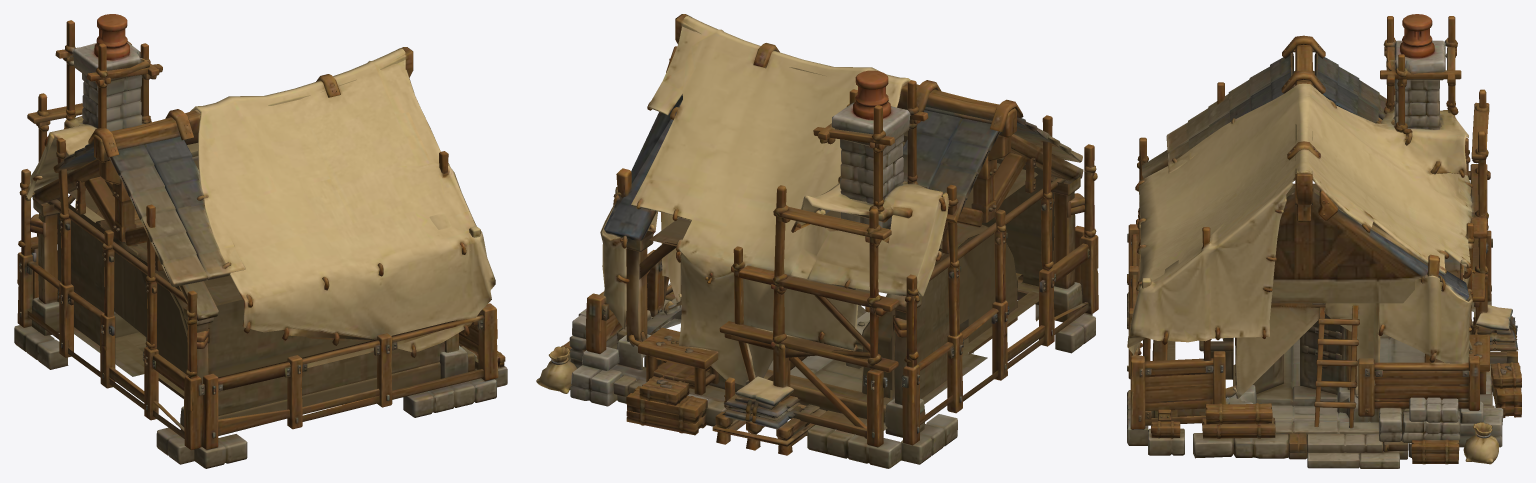
The model's file is jt_tarp_shack_a.glb.
3 renders of one model, left to right at view 1: azimuth 30°, elevation 25°; view 2: azimuth 150°, elevation 25°; view 3: azimuth 270°, elevation 25°, orthographic. The views are drawn at different scales.
Parts seen in each view (by area): view 1: tripo_node_1f93a735; view 2: tripo_node_1f93a735; view 3: tripo_node_1f93a735.
Boxes of the visible parts, <box> form: tripo_node_1f93a735: <box>14,14,507,468</box>; tripo_node_1f93a735: <box>536,14,1098,468</box>; tripo_node_1f93a735: <box>1127,14,1521,468</box>.
Bounding box in the file's own units: 0.9985 × 0.8911 × 0.9995.
1 material, 1 textured.
